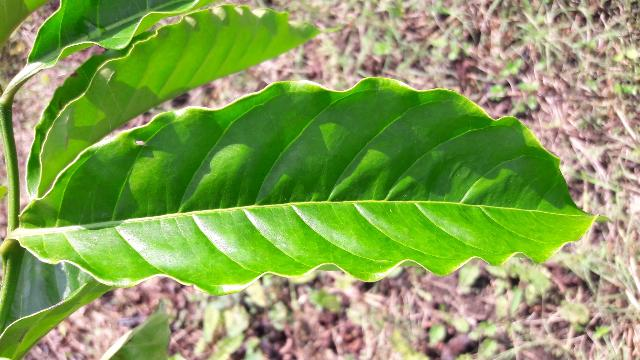healthy: (11, 79, 597, 292)
